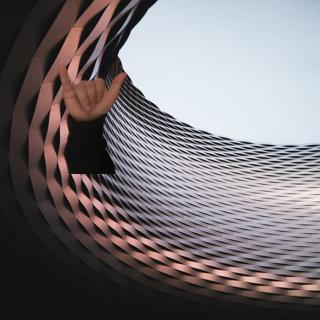HAVE: (54, 59, 131, 125)
